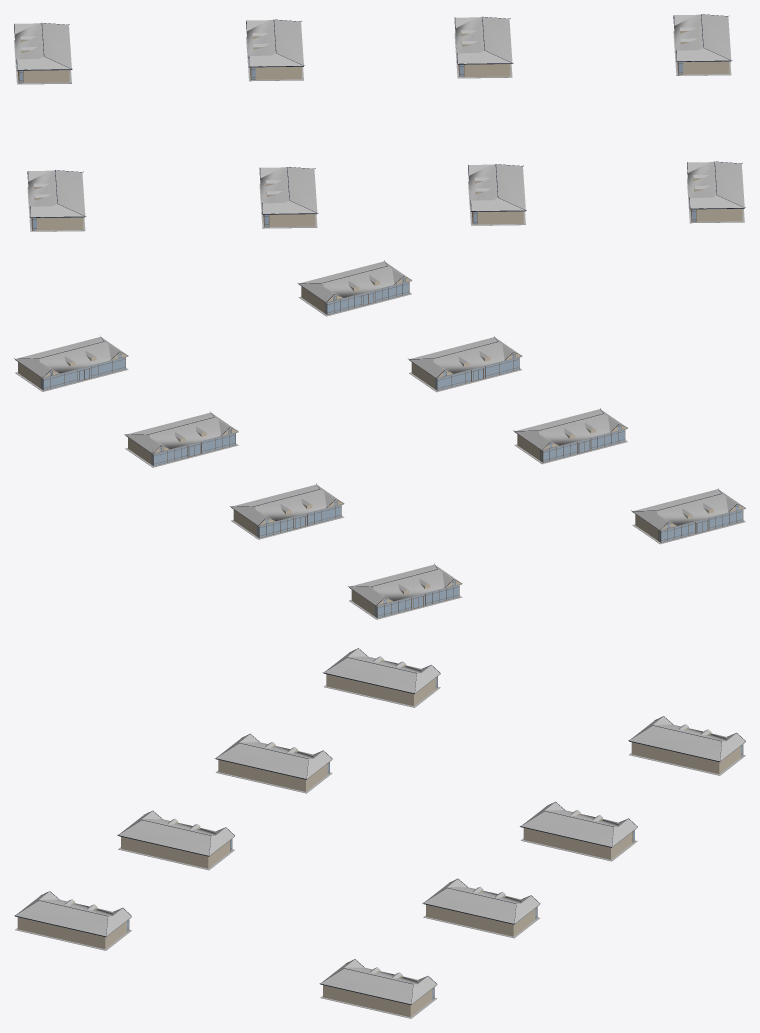
The model's file is xiaoqu3.gltf.
3 renders of one model, top to bottom at view 1: azimuth 30°, elevation 25°; view 2: azimuth 150°, elevation 25°; view 3: azimuth 270°, elevation 25°, orthographic. The views are drawn at different scales.
Visible parts, largest first — view 1: dx151, dx150, dx149, dx135, dx133, dx136, dx134, dx152; view 2: dx149, dx150, dx152, dx151, dx134, dx133, dx135, dx136; view 3: dx133, dx152, dx135, dx136, dx150, dx149, dx151, dx134.
Part boxes in pixels (x1,y1,x2,y2): dx151: [468, 164, 526, 225]; dx150: [259, 167, 318, 228]; dx149: [27, 170, 86, 231]; dx135: [454, 16, 513, 78]; dx133: [14, 23, 72, 84]; dx136: [673, 14, 732, 75]; dx134: [246, 19, 304, 81]; dx152: [687, 161, 745, 223]; dx149: [631, 488, 745, 544]; dx150: [513, 408, 627, 464]; dx152: [298, 260, 411, 316]; dx151: [408, 336, 522, 392]; dx134: [230, 483, 344, 539]; dx133: [348, 563, 462, 619]; dx135: [124, 411, 238, 467]; dx136: [14, 336, 128, 391]; dx133: [628, 716, 745, 775]; dx152: [14, 891, 131, 950]; dx135: [422, 878, 540, 938]; dx136: [319, 959, 437, 1018]; dx150: [214, 733, 332, 793]; dx149: [322, 648, 440, 707]; dx151: [117, 810, 234, 870]; dx134: [520, 801, 637, 861].
Bounding box in the file's own units: 1207 × 35.37 × 1060.
